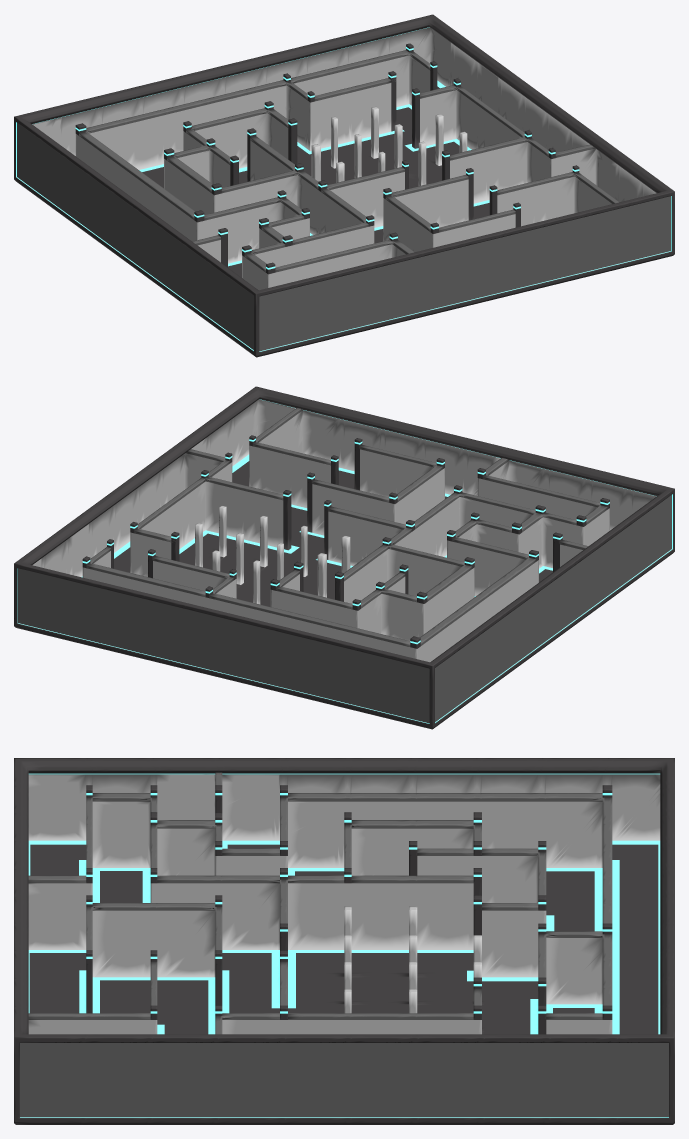
The model's file is LevelOneMaze_withoutHole2.fbx.
The picture shows the model from 3 angles, top to bottom: view 1: azimuth 30°, elevation 25°; view 2: azimuth 150°, elevation 25°; view 3: azimuth 270°, elevation 25°; orthographic projection. The views are drawn at different scales.
Visible parts, largest first — view 1: Plane; view 2: Plane; view 3: Plane.
Boxes of the visible parts, <box> form: Plane: <box>14,14,674,357</box>; Plane: <box>14,386,674,729</box>; Plane: <box>14,758,674,1124</box>.
Bounding box in the file's own units: 2530 × 422 × 2530.
